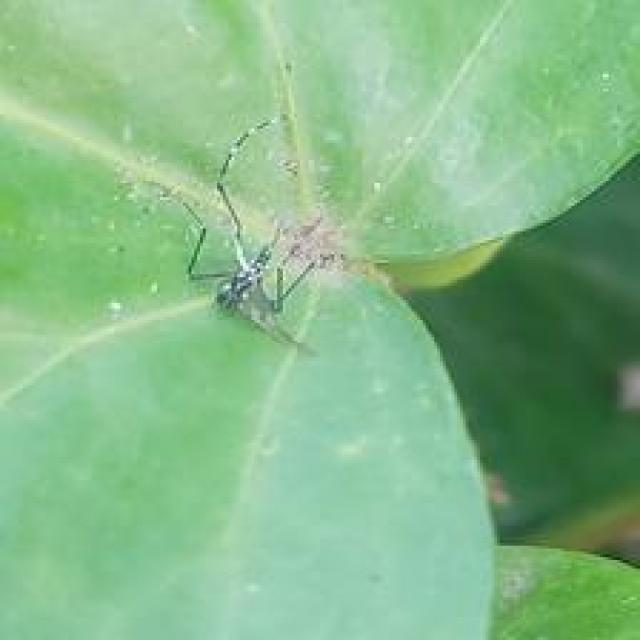Aedes albopictus: (182, 116, 322, 356)
